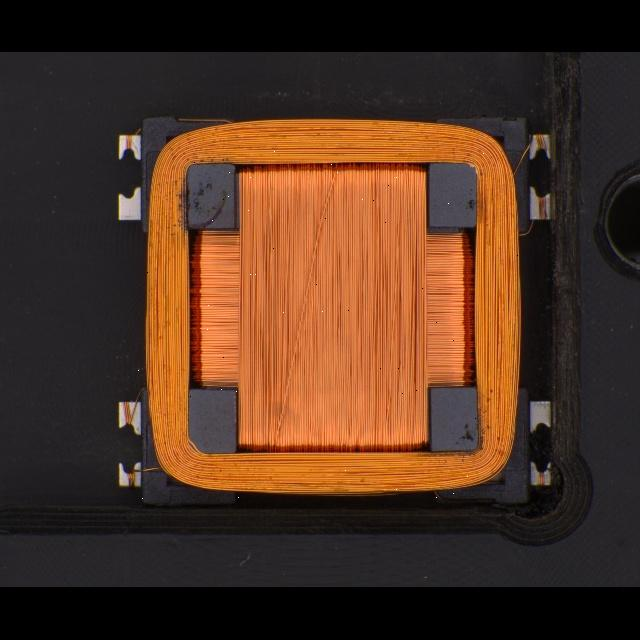Winding_Z: (136, 115, 525, 500)
